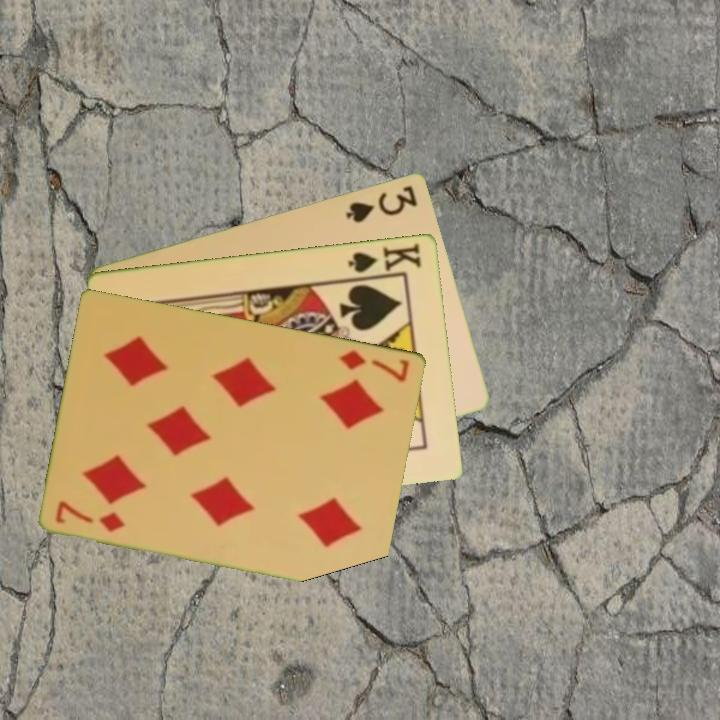3s: (343, 181, 421, 225)
7d: (336, 346, 413, 385), (52, 497, 128, 535)
Ks: (345, 239, 425, 276)
